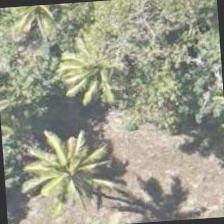Kelapa_Sawit: (60, 20, 156, 116), (5, 119, 100, 216)
